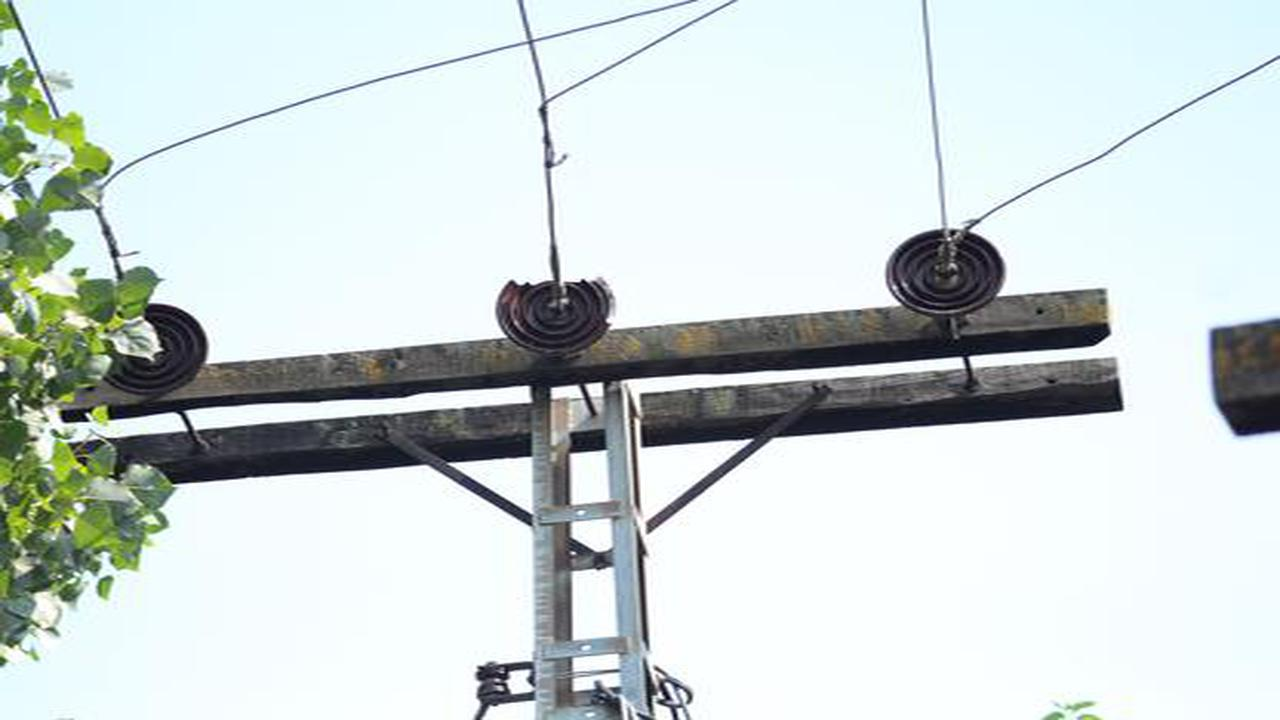defect_disc: (491, 275, 625, 363)
insulator_disc: (886, 230, 1010, 321), (116, 310, 218, 400)
